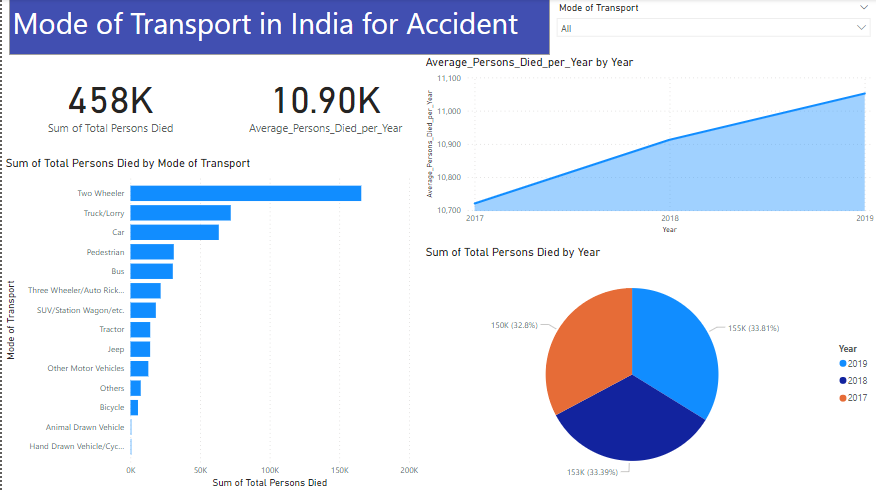

What the dashboard file says about the page in this screenshot:
{"tool":"powerbi","page":{"name":"Mode_Of_Accident","canvas":[1280,720],"ordinal":4},"visuals":[{"type":"textbox","box":[10.2,0,791.7,82],"z":0},{"type":"clusteredBarChart","fields":{"Y":["Sum(Mode_accident.Total Persons Died)"],"Category":["Mode_accident.Mode of Transport"]},"box":[0,229.8,614.6,490.2],"z":1000},{"type":"card","fields":{"Values":["Sum(Mode_accident.Total Persons Died)"]},"box":[10.2,82,297.1,137.6],"z":2000},{"type":"card","fields":{"Values":["Mode_accident.Average_Persons_Died_per_Year"]},"box":[307.3,82,332.2,137.6],"z":3000},{"type":"pieChart","fields":{"Y":["Sum(Mode_accident.Total Persons Died)"],"Category":["Mode_accident.Year"]},"box":[614.6,360,665.9,360],"z":4000},{"type":"slicer","fields":{"Values":["Mode_accident.Mode of Transport"]},"box":[802,0,478.5,82],"z":5000},{"type":"areaChart","fields":{"Category":["Mode_accident.Year"],"Y":["Mode_accident.Average_Persons_Died_per_Year"]},"box":[614.6,82,665.9,266.3],"z":6000}]}

Visuals, with their boxes in screenshot pixels (x1, y1, x2, y2), scaled from the page's 1280x720 canvas onto the 876x491 screenshot:
textbox: rect(7, 0, 549, 56)
clusteredBarChart - Sum(Mode_accident.Total Persons Died) x Mode_accident.Mode of Transport: rect(0, 157, 421, 490)
card - Sum(Mode_accident.Total Persons Died): rect(7, 56, 210, 150)
card - Mode_accident.Average_Persons_Died_per_Year: rect(210, 56, 438, 150)
pieChart - Sum(Mode_accident.Total Persons Died) x Mode_accident.Year: rect(421, 246, 875, 490)
slicer - Mode_accident.Mode of Transport: rect(549, 0, 875, 56)
areaChart - Mode_accident.Year x Mode_accident.Average_Persons_Died_per_Year: rect(421, 56, 875, 238)
